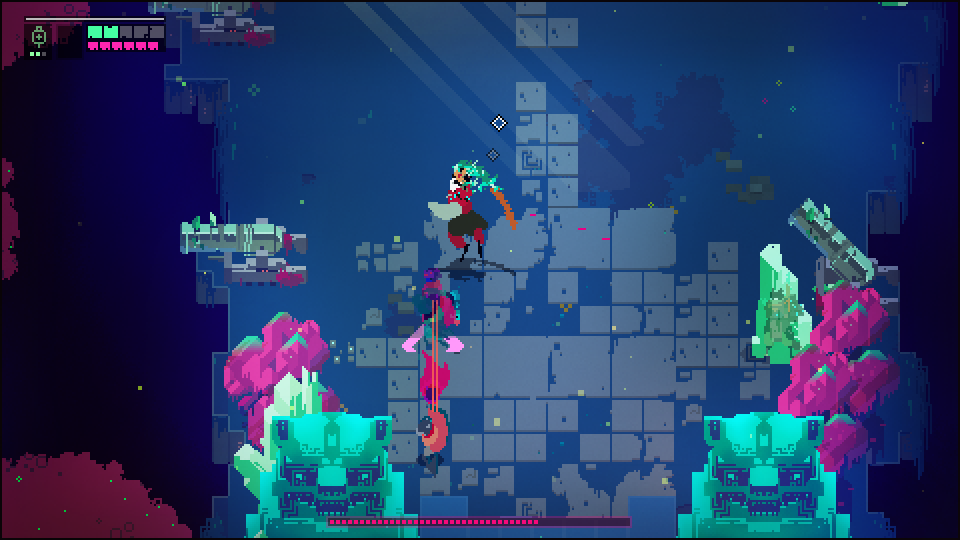hanged_man: (427, 155, 517, 270)
player: (415, 402, 451, 465)
